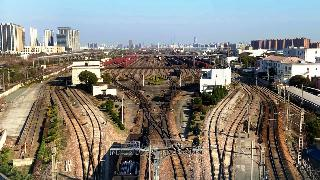train: (110, 133, 145, 180), (163, 89, 174, 101)
